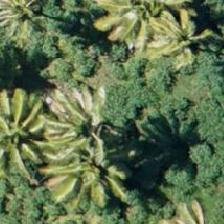coconut_tree: (35, 139, 125, 223), (0, 102, 55, 192), (88, 0, 178, 50), (0, 0, 63, 55)
